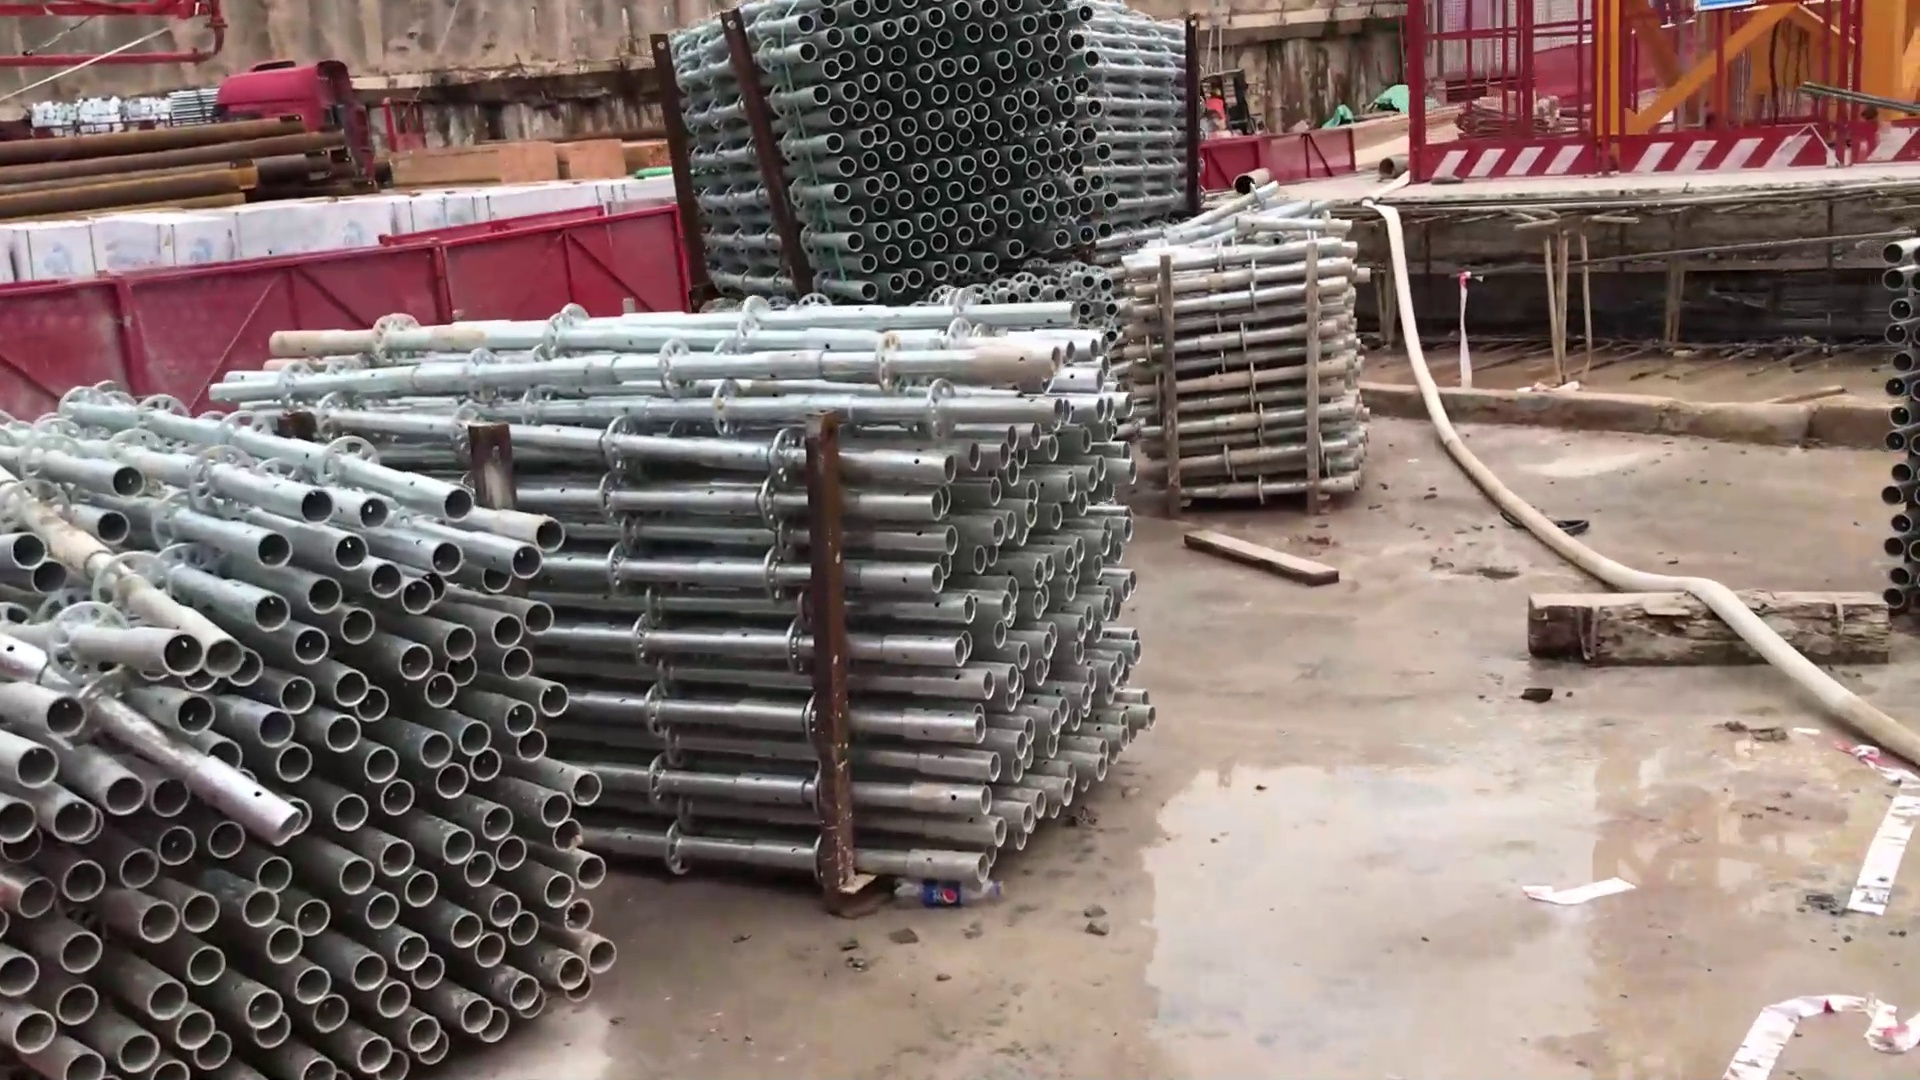fence: (1400, 5, 1920, 179), (427, 212, 678, 305)
scaffold: (1, 404, 637, 1080), (640, 287, 1159, 920), (695, 3, 1222, 280), (1126, 210, 1382, 518)
wood: (384, 135, 667, 181)
